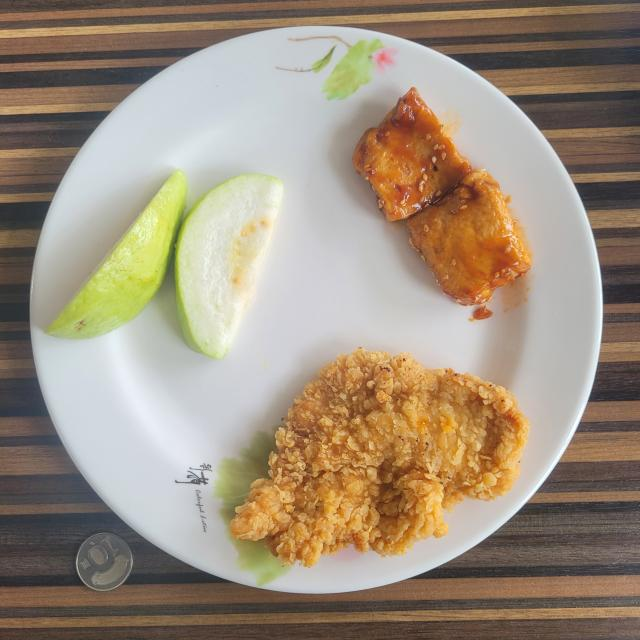coin: (76, 532, 132, 591)
creamy tofu: (352, 88, 530, 305)
fried chicken cutlet: (230, 349, 529, 566)
guava -sliced-: (45, 170, 284, 359)
